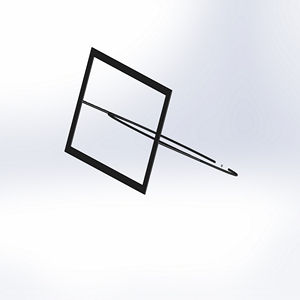circle: (60, 42, 241, 196)
